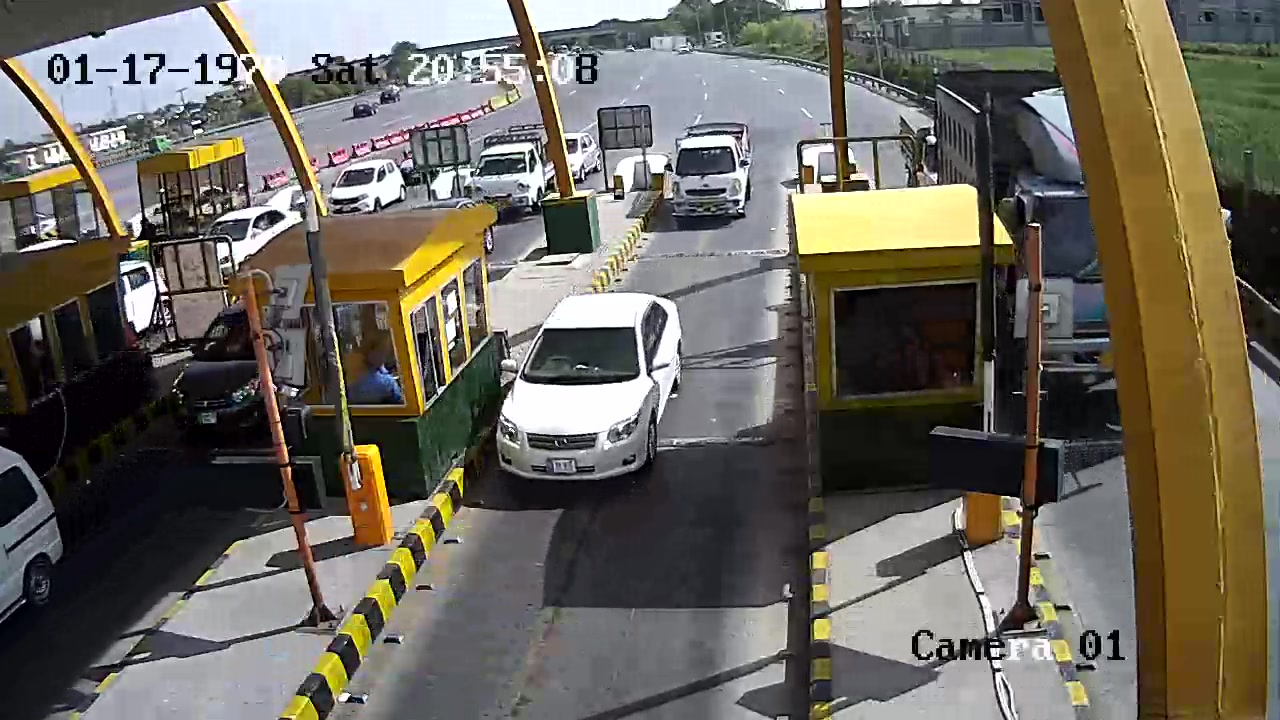F1: (489, 281, 689, 492)
